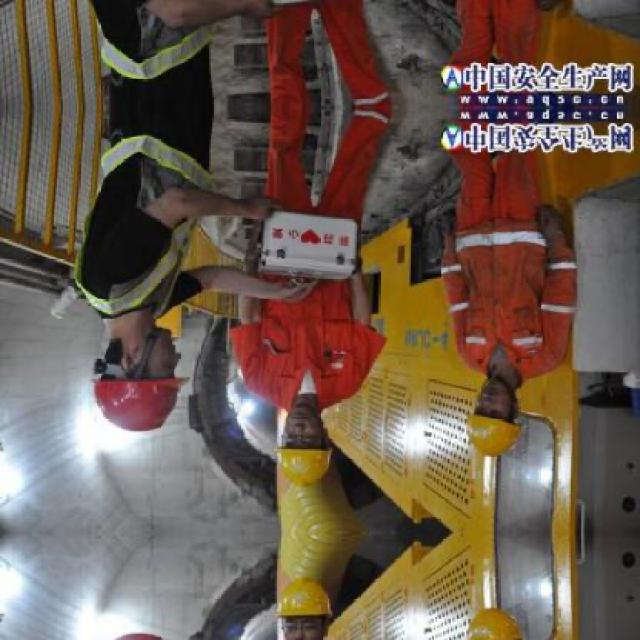con casco: (86, 314, 184, 446), (266, 367, 348, 488), (460, 344, 543, 454)
